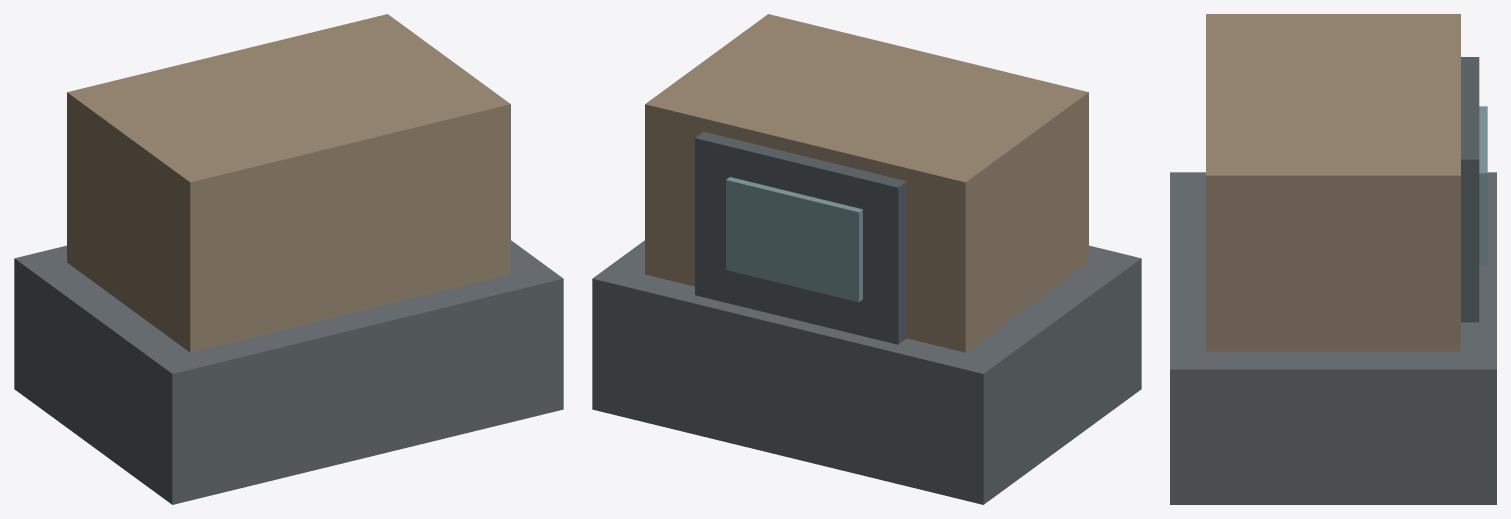
The model's file is iz3_military_crate_02.glb.
The picture shows the model from 3 angles, left to right: view 1: azimuth 30°, elevation 25°; view 2: azimuth 150°, elevation 25°; view 3: azimuth 270°, elevation 25°; orthographic projection. The views are drawn at different scales.
Parts seen in each view (by area): view 1: cabinet, base; view 2: base, cabinet, panel, display; view 3: cabinet, base, panel, display.
Boxes of the visible parts, left/top/right/bottom form: cabinet: left=67, top=14, right=510, bottom=352; base: left=14, top=240, right=563, bottom=504; base: left=592, top=240, right=1141, bottom=504; cabinet: left=645, top=14, right=1088, bottom=352; panel: left=695, top=131, right=906, bottom=344; display: left=726, top=177, right=862, bottom=302; cabinet: left=1206, top=14, right=1460, bottom=351; base: left=1170, top=172, right=1496, bottom=504; panel: left=1461, top=57, right=1479, bottom=322; display: left=1479, top=106, right=1487, bottom=266.
Bounding box in the file's own units: 1 × 0.736 × 0.7.
